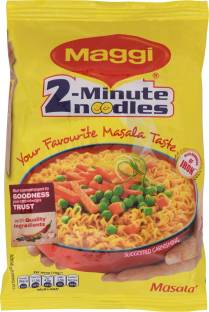maggie: (6, 4, 206, 310)
